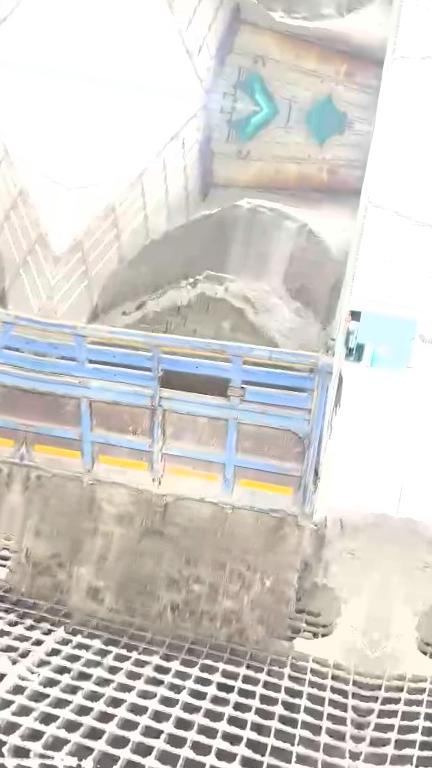sand: (16, 476, 396, 643), (98, 198, 359, 356)
